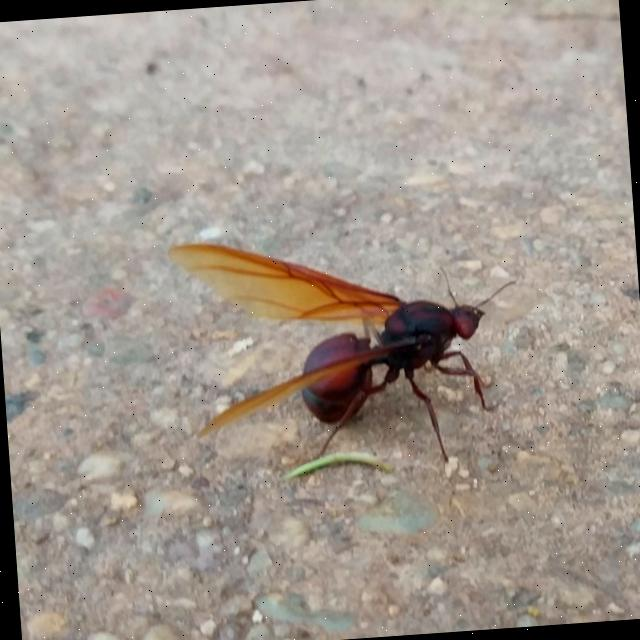Alive-Female-Alate: (166, 220, 528, 482)
